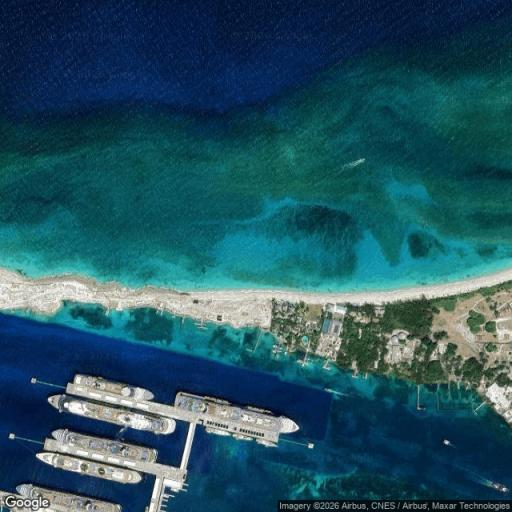ship: (175, 392, 298, 445), (48, 395, 175, 434), (52, 429, 157, 462), (36, 452, 142, 483), (16, 484, 121, 511), (74, 374, 153, 400), (0, 492, 33, 511), (491, 482, 509, 492), (272, 344, 278, 349)
